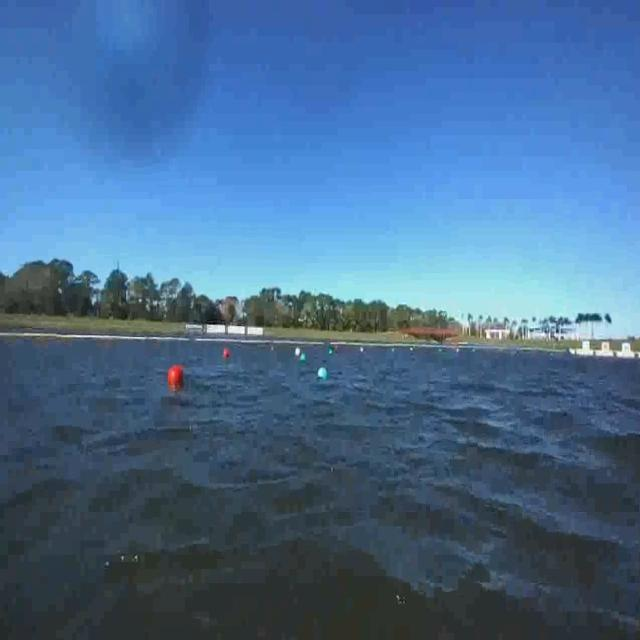green-buoy: (317, 366, 328, 379), (299, 350, 308, 364)
red-buoy: (168, 365, 184, 383), (224, 349, 228, 359)
